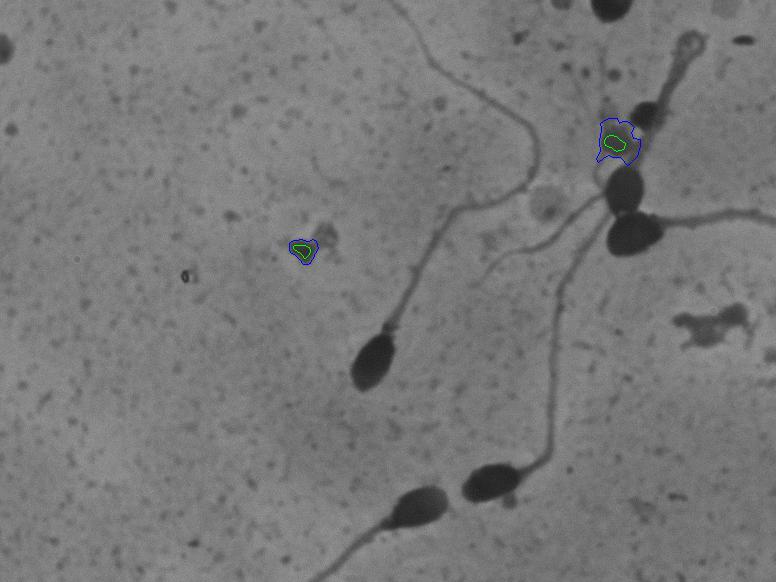Abnormal: (455, 293, 614, 522)
Normal: (339, 10, 549, 405)
